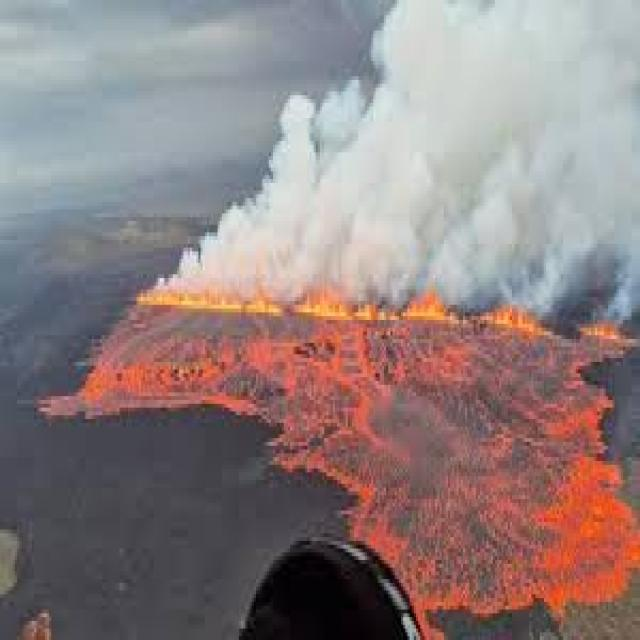explosion: (32, 0, 640, 545)
